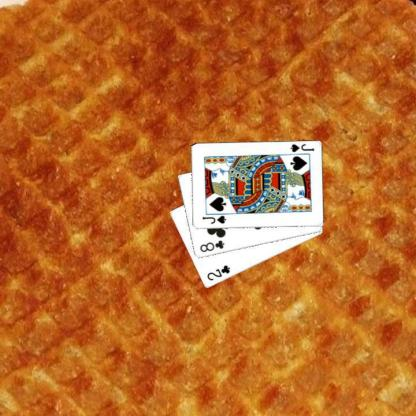2C: (205, 262, 231, 282)
8C: (197, 237, 225, 254)
JS: (200, 214, 227, 225), (288, 142, 315, 153)
